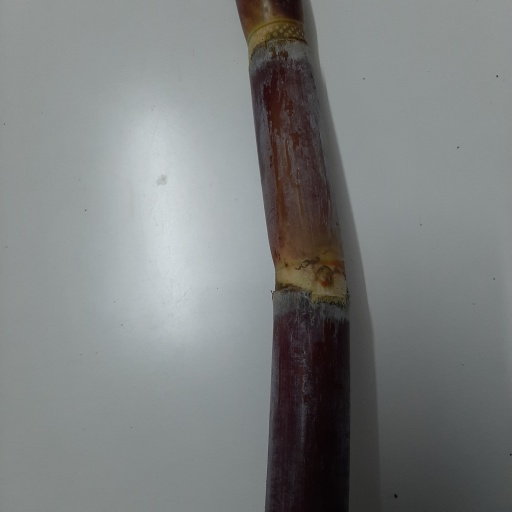Bud: (315, 264, 336, 290)
